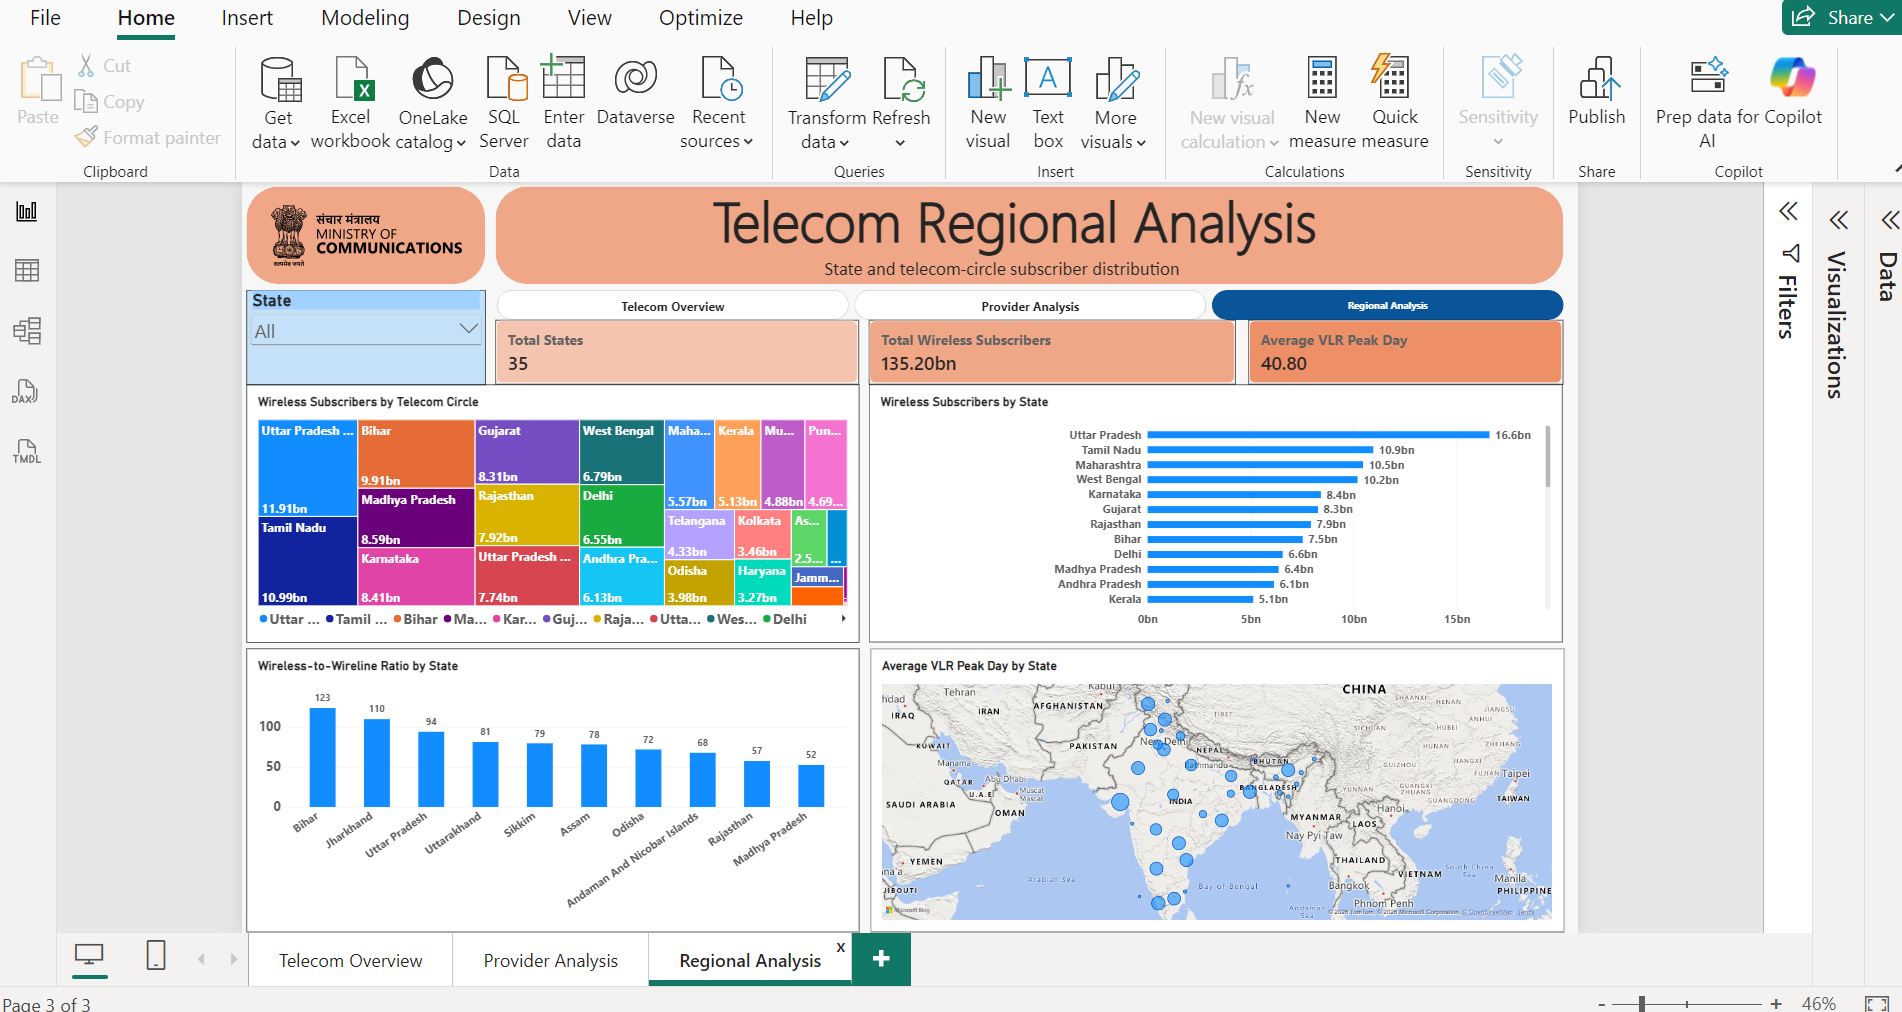

What the dashboard file says about the page in this screenshot:
{"tool":"powerbi","page":{"name":"Regional Analysis","canvas":[1920,1080],"ordinal":2},"visuals":[{"type":"barChart","title":"Wireless Subscribers by State","fields":{"Category":["public vw_state_analysis.state"],"Y":["Sum(public vw_state_analysis.total_wireless_subscribers)"]},"box":[902.6,291.3,997.5,370.8],"z":0},{"type":"treemap","title":"Wireless Subscribers by Telecom Circle","fields":{"Group":["public vw_state_circle_analysis.telecom_circle_name"],"Values":["Sum(public vw_state_circle_analysis.total_wireless_subscribers)"]},"box":[6.5,291.6,881.3,371.5],"z":1000},{"type":"columnChart","title":"Wireless-to-Wireline Ratio by State","fields":{"Y":["Sum(public vw_state_analysis.wireless_to_wireline_ratio)"],"Category":["public vw_state_analysis.state"]},"box":[6.5,671.8,881.3,408.2],"z":2000},{"type":"map","title":"Average VLR Peak Day by State","fields":{"Category":["public vw_state_analysis.state"],"Size":["Avg(public vw_state_analysis.avg_vlr_peak_day)"]},"box":[902.9,671.8,997.9,408.2],"z":3000},{"type":"slicer","fields":{"Values":["State_Slicer.State"]},"box":[6.6,154.5,344.3,136.8],"z":4000},{"type":"shape","box":[6.5,6.5,343.4,140.4],"z":5000},{"type":"image","box":[32.4,32.4,293.8,88.6],"z":6000},{"type":"shape","box":[365,6.5,1535.8,140.4],"z":7000},{"type":"textbox","box":[666.5,0,889.4,121.4],"z":8000},{"type":"textbox","box":[809.9,108.1,567.8,45.3],"z":9000},{"type":"pageNavigator","box":[367.2,155.5,1535.8,43.2],"z":10000},{"type":"cardVisual","fields":{"Data":["State_Slicer.Total States"]},"box":[365,198.7,522.7,92.9],"z":11000},{"type":"cardVisual","fields":{"Data":["Sum(public vw_monthly_subscriber_trend.total_wireless_subscribers)"]},"box":[902.6,198.6,527,92.9],"z":12000},{"type":"cardVisual","fields":{"Data":["Avg(public vw_state_analysis.avg_vlr_peak_day)"]},"box":[1447.7,198.6,452.4,92.7],"z":13000}]}

Visuals, with their boxes on the page's 1920x1080 design canvas (x1, y1, x2, y2). These are canvas units, not pixel positions in the 1902x1012 screenshot, which may show the page scaled, cropped or inside an application window:
"Wireless Subscribers by State" barChart: bbox(903, 291, 1900, 662)
"Wireless Subscribers by Telecom Circle" treemap: bbox(6, 292, 888, 663)
"Wireless-to-Wireline Ratio by State" columnChart: bbox(6, 672, 888, 1080)
"Average VLR Peak Day by State" map: bbox(903, 672, 1901, 1080)
slicer - State_Slicer.State: bbox(7, 154, 351, 291)
shape: bbox(6, 6, 350, 147)
image: bbox(32, 32, 326, 121)
shape: bbox(365, 6, 1901, 147)
textbox: bbox(666, 0, 1556, 121)
textbox: bbox(810, 108, 1378, 153)
pageNavigator: bbox(367, 156, 1903, 199)
cardVisual - State_Slicer.Total States: bbox(365, 199, 888, 292)
cardVisual - Sum(public vw_monthly_subscriber_trend.total_wireless_subscribers): bbox(903, 199, 1430, 292)
cardVisual - Avg(public vw_state_analysis.avg_vlr_peak_day): bbox(1448, 199, 1900, 291)
